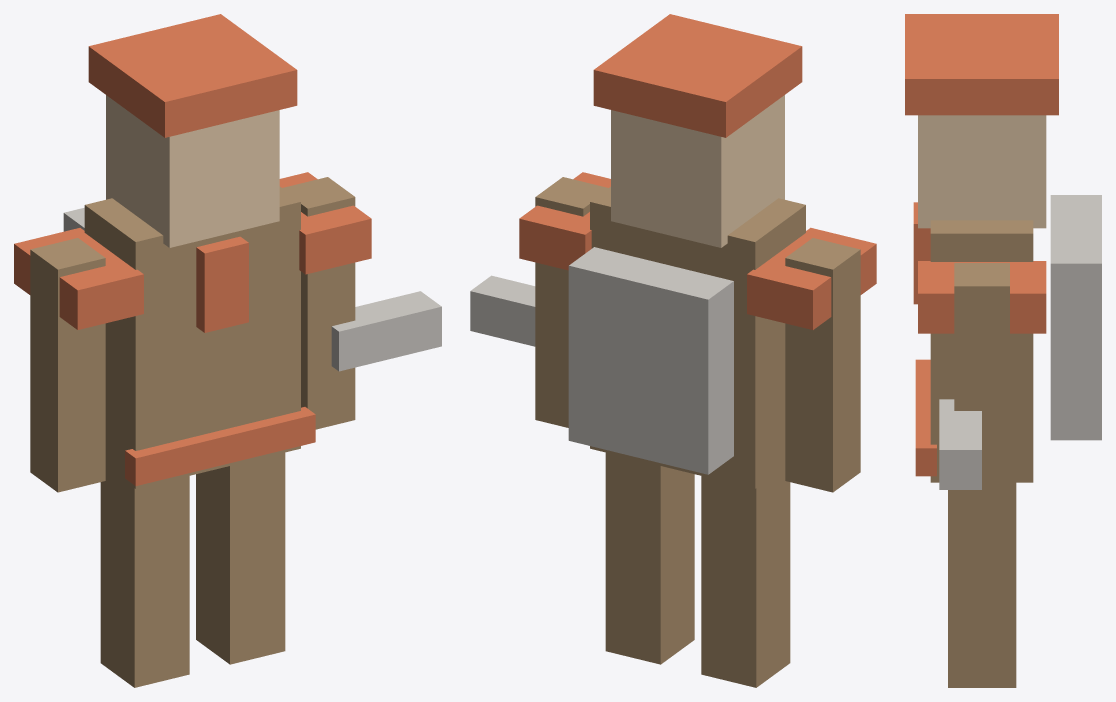
Rendered from 06_nyra_tideforged_operator_at_archive.glb.
The picture shows the model from 3 angles, left to right: view 1: azimuth 30°, elevation 25°; view 2: azimuth 150°, elevation 25°; view 3: azimuth 270°, elevation 25°; orthographic projection.
Parts seen in each view (by area): view 1: Nyra Tideforged, Operator at Archive; view 2: Nyra Tideforged, Operator at Archive; view 3: Nyra Tideforged, Operator at Archive.
Boxes of the visible parts, box(x1,y1,x2,y2) form: Nyra Tideforged, Operator at Archive: box(14, 14, 441, 687); Nyra Tideforged, Operator at Archive: box(470, 14, 876, 687); Nyra Tideforged, Operator at Archive: box(905, 14, 1101, 687).
Bounding box in the file's own units: 0.9907 × 1.51 × 0.4446.
